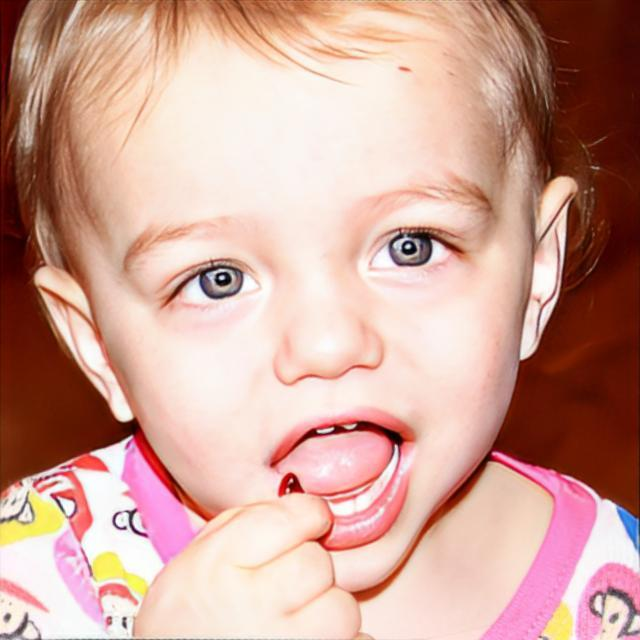surprise: (56, 0, 536, 596)
